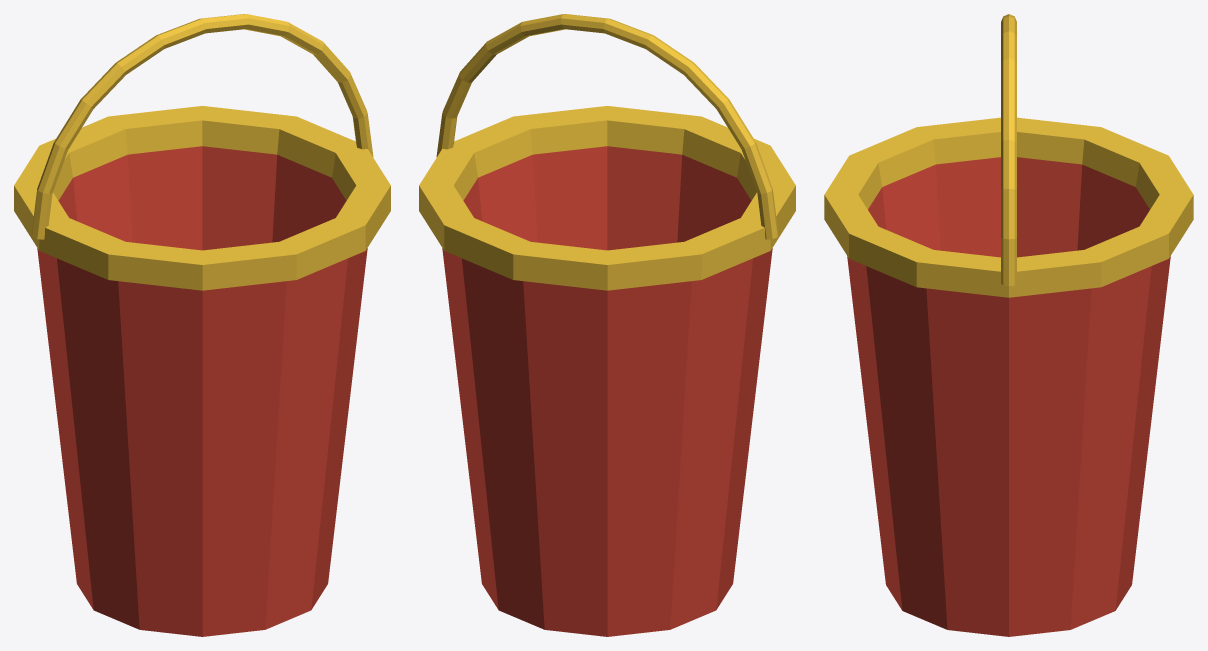
File: bucket.glb
3 renders of one model, left to right at view 1: azimuth 30°, elevation 25°; view 2: azimuth 150°, elevation 25°; view 3: azimuth 270°, elevation 25°, orthographic. The views are drawn at different scales.
Parts seen in each view (by area): view 1: bucket; view 2: bucket; view 3: bucket.
Part boxes in pixels (x1,y1,x2,y2): bucket: [14, 14, 390, 636]; bucket: [419, 14, 795, 636]; bucket: [824, 14, 1193, 636].
Bounding box in the file's own units: 6.26 × 9.93 × 6.
